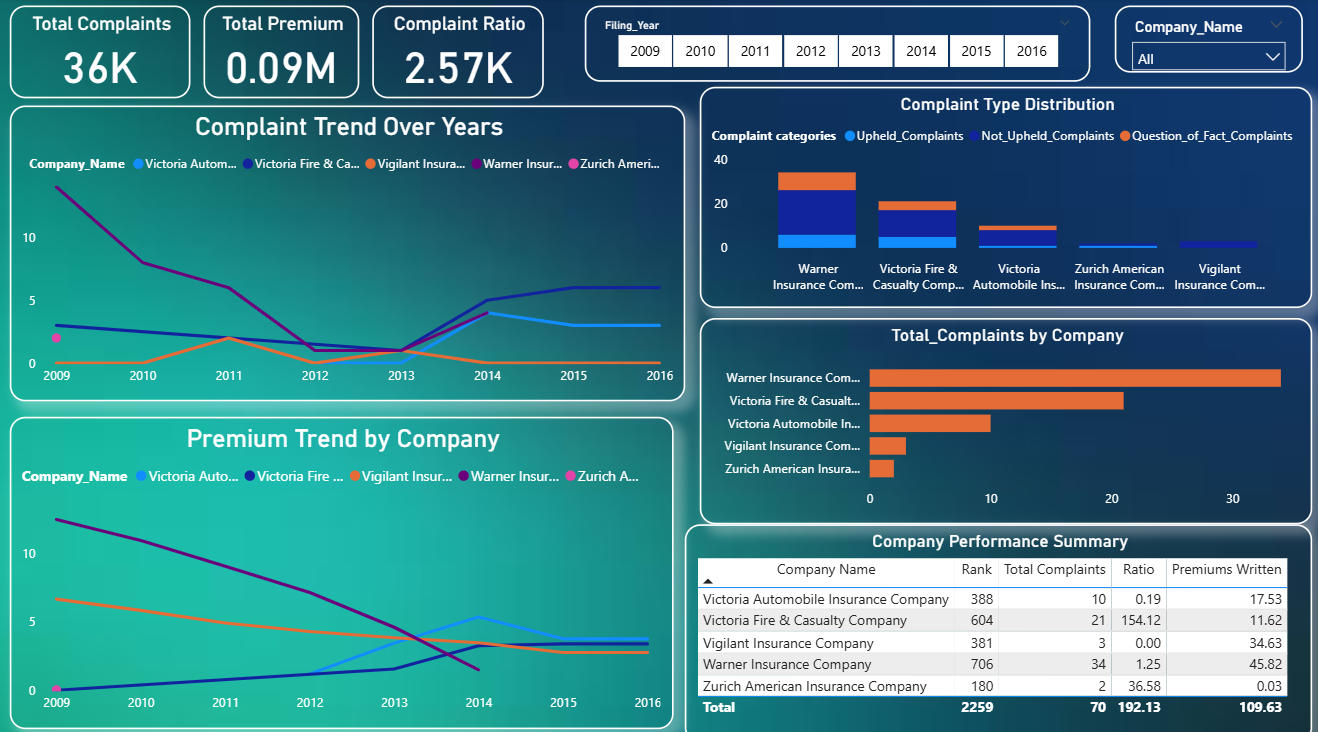

The page's visual inventory and layout, read from the dashboard file:
{"tool":"powerbi","page":{"name":"Page 1","canvas":[1280,720],"ordinal":0},"visuals":[{"type":"card","title":"Total Premium","fields":{"Values":["auto_table.Total Premium"]},"box":[200.5,7.2,150,89.5],"z":1},{"type":"card","title":"Total Complaints","fields":{"Values":["Sum(auto_table.Total_Complaints)"]},"box":[13,7.2,174.6,89.5],"z":2},{"type":"card","title":"Complaint Ratio","fields":{"Values":["Sum(auto_table.Ratio)"]},"box":[363.6,7.2,165.9,89.5],"z":3},{"type":"lineChart","title":"Complaint Trend Over Years","fields":{"Category":["auto_table.Filing_Year"],"Series":["auto_table.Company_Name"],"Y":["Sum(auto_table.Total_Complaints)"]},"box":[13,103.9,652.1,285.7],"z":4},{"type":"lineChart","title":"Premium Trend by Company","fields":{"Category":["auto_table.Filing_Year"],"Series":["auto_table.Company_Name"],"Y":["Sum(auto_table.Premiums_Written)"]},"box":[13,404,640.6,301.5],"z":5},{"type":"clusteredBarChart","title":"Total_Complaints by Company","fields":{"Category":["auto_table.Company_Name"],"Y":["Sum(auto_table.Total_Complaints)"]},"box":[679.5,308.8,591.5,199.1],"z":6},{"type":"columnChart","title":"Complaint Type Distribution","fields":{"Category":["auto_table.Company_Name"],"Y":["Sum(auto_table.Upheld_Complaints)","Sum(auto_table.Not_Upheld_Complaints)","Sum(auto_table.Question_of_Fact_Complaints)"]},"box":[679.5,85.1,591.5,213.5],"z":7},{"type":"tableEx","title":"Company Performance Summary","fields":{"Values":["auto_table.Company_Name","Sum(auto_table.Ranking)","Sum(auto_table.Total_Complaints)","Sum(auto_table.Ratio)","Sum(auto_table.Premiums_Written)"]},"box":[665.1,507.9,606,212.1],"z":8},{"type":"slicer","fields":{"Values":["auto_table.Filing_Year"]},"box":[568.4,7.2,487.7,73.6],"z":9},{"type":"slicer","fields":{"Values":["auto_table.Company_Name"]},"box":[1079.2,7.2,181.8,64.9],"z":10}]}

Visuals, with their boxes in screenshot pixels (x1, y1, x2, y2), scaled from the page's 1280x720 canvas onto the 1318x732 screenshot:
"Total Premium" card: {"x1": 206, "y1": 7, "x2": 361, "y2": 98}
"Total Complaints" card: {"x1": 13, "y1": 7, "x2": 193, "y2": 98}
"Complaint Ratio" card: {"x1": 374, "y1": 7, "x2": 545, "y2": 98}
"Complaint Trend Over Years" lineChart: {"x1": 13, "y1": 106, "x2": 685, "y2": 396}
"Premium Trend by Company" lineChart: {"x1": 13, "y1": 411, "x2": 673, "y2": 717}
"Total_Complaints by Company" clusteredBarChart: {"x1": 700, "y1": 314, "x2": 1309, "y2": 516}
"Complaint Type Distribution" columnChart: {"x1": 700, "y1": 87, "x2": 1309, "y2": 304}
"Company Performance Summary" tableEx: {"x1": 685, "y1": 516, "x2": 1309, "y2": 731}
slicer - auto_table.Filing_Year: {"x1": 585, "y1": 7, "x2": 1087, "y2": 82}
slicer - auto_table.Company_Name: {"x1": 1111, "y1": 7, "x2": 1298, "y2": 73}
